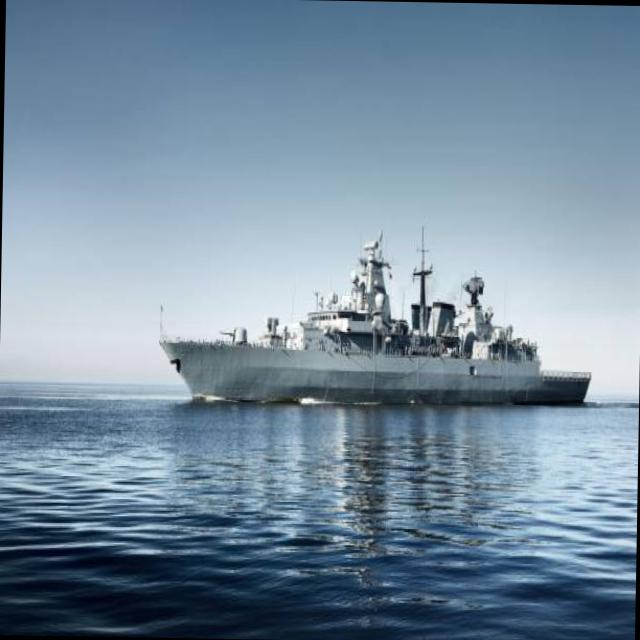Military: (161, 232, 592, 405)
